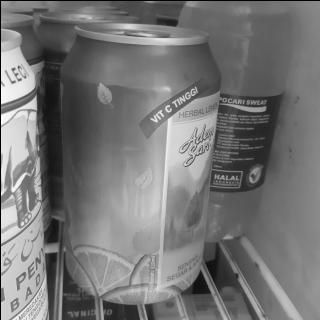alumunium_can: (54, 6, 225, 316)
